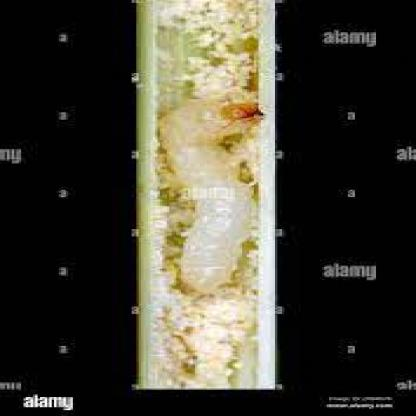sawfly: (148, 83, 288, 298)
